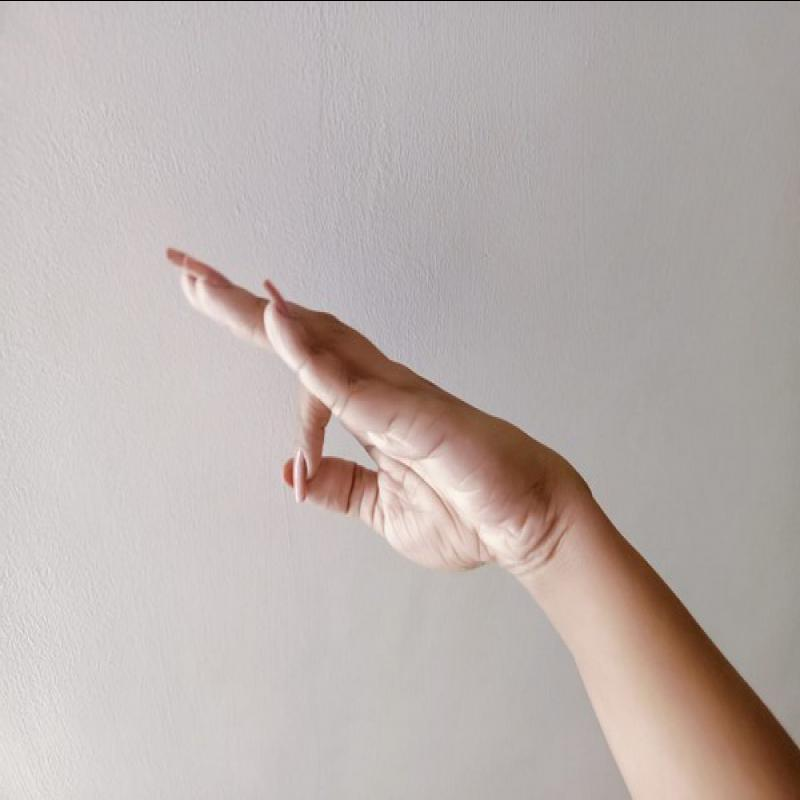Mudraakhyam: (143, 228, 594, 597)
